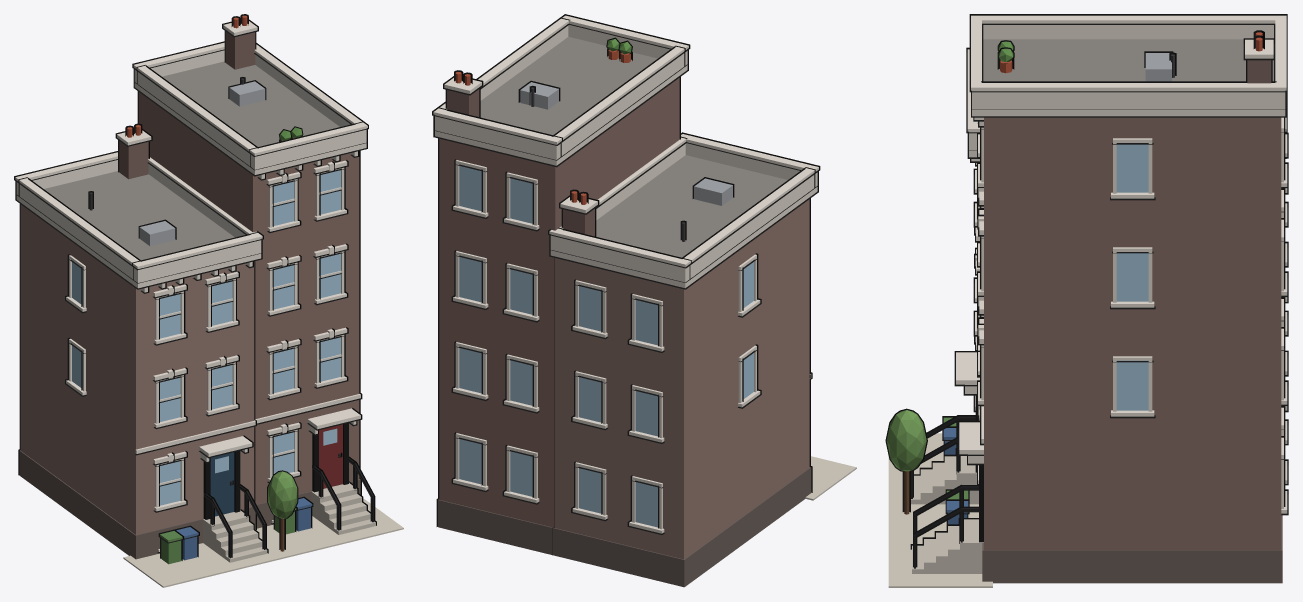
File: SiraEv_karisik_1_3.fbx
3 renders of one model, left to right at view 1: azimuth 30°, elevation 25°; view 2: azimuth 150°, elevation 25°; view 3: azimuth 270°, elevation 25°, orthographic. The views are drawn at different scales.
Visible parts, largest first — view 1: SiraEv_karisik_1_3; view 2: SiraEv_karisik_1_3; view 3: SiraEv_karisik_1_3.
Part boxes in pixels (left/top/right/bottom): SiraEv_karisik_1_3: left=14, top=14, right=403, bottom=587; SiraEv_karisik_1_3: left=432, top=14, right=856, bottom=587; SiraEv_karisik_1_3: left=885, top=14, right=1288, bottom=587.
Bounding box in the file's own units: 9.04 × 14.85 × 10.06.
